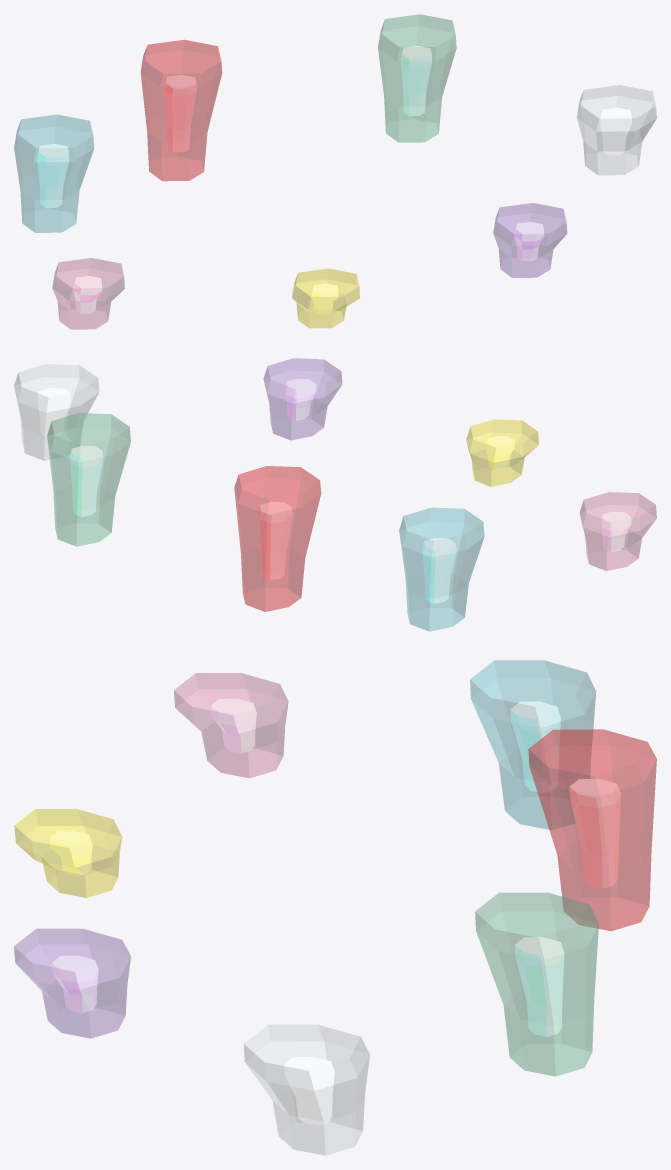
Rendered from day45-seats.glb.
3 views of the same model, one above another, from view 1: azimuth 30°, elevation 25°; view 2: azimuth 150°, elevation 25°; view 3: azimuth 270°, elevation 25° (orthographic). The views are drawn at different scales.
Parts seen in each view (by area): view 1: Seat_07_Ruby.001, Seat_05_Jade.001, Seat_02_Lagoon.001, Seat_06_Quartz.001, Seat_04_Amethyst.001, Seat_01_Rose.001, Seat_03_Citrine.001, Seat_07_Ruby_Core.001, Seat_05_Jade_Core.001, Seat_02_Lagoon_Core.001, Seat_06_Quartz_Core.001, Seat_04_Amethyst_Core.001 (+2 smaller); view 2: Seat_07_Ruby.001, Seat_05_Jade.001, Seat_02_Lagoon.001, Seat_06_Quartz.001, Seat_04_Amethyst.001, Seat_01_Rose.001, Seat_03_Citrine.001, Seat_07_Ruby_Core.001, Seat_05_Jade_Core.001, Seat_02_Lagoon_Core.001, Seat_06_Quartz_Core.001, Seat_04_Amethyst_Core.001 (+2 smaller); view 3: Seat_07_Ruby.001, Seat_05_Jade.001, Seat_02_Lagoon.001, Seat_06_Quartz.001, Seat_04_Amethyst.001, Seat_01_Rose.001, Seat_03_Citrine.001, Seat_07_Ruby_Core.001, Seat_05_Jade_Core.001, Seat_02_Lagoon_Core.001, Seat_06_Quartz_Core.001, Seat_04_Amethyst_Core.001 (+2 smaller).
Part boxes in pixels (x1=…): Seat_07_Ruby.001: x1=140, y1=39, x2=222, y2=181; Seat_05_Jade.001: x1=378, y1=14, x2=456, y2=142; Seat_02_Lagoon.001: x1=14, y1=114, x2=94, y2=232; Seat_06_Quartz.001: x1=577, y1=85, x2=656, y2=175; Seat_04_Amethyst.001: x1=493, y1=203, x2=567, y2=277; Seat_01_Rose.001: x1=52, y1=258, x2=124, y2=329; Seat_03_Citrine.001: x1=292, y1=268, x2=359, y2=328; Seat_07_Ruby_Core.001: x1=164, y1=75, x2=196, y2=152; Seat_05_Jade_Core.001: x1=400, y1=46, x2=431, y2=116; Seat_02_Lagoon_Core.001: x1=37, y1=143, x2=69, y2=208; Seat_06_Quartz_Core.001: x1=600, y1=107, x2=631, y2=155; Seat_04_Amethyst_Core.001: x1=514, y1=222, x2=544, y2=261; Seat_07_Ruby.001: x1=234, y1=466, x2=321, y2=611; Seat_05_Jade.001: x1=47, y1=413, x2=130, y2=546; Seat_02_Lagoon.001: x1=399, y1=507, x2=484, y2=631; Seat_06_Quartz.001: x1=14, y1=364, x2=99, y2=460; Seat_04_Amethyst.001: x1=263, y1=358, x2=342, y2=440; Seat_01_Rose.001: x1=579, y1=492, x2=656, y2=570; Seat_03_Citrine.001: x1=466, y1=419, x2=538, y2=486; Seat_07_Ruby_Core.001: x1=258, y1=502, x2=292, y2=580; Seat_05_Jade_Core.001: x1=70, y1=445, x2=103, y2=517; Seat_02_Lagoon_Core.001: x1=422, y1=538, x2=456, y2=603; Seat_06_Quartz_Core.001: x1=37, y1=388, x2=71, y2=437; Seat_04_Amethyst_Core.001: x1=285, y1=378, x2=316, y2=420; Seat_07_Ruby.001: x1=528, y1=729, x2=656, y2=931; Seat_05_Jade.001: x1=475, y1=892, x2=598, y2=1076; Seat_02_Lagoon.001: x1=470, y1=660, x2=596, y2=829; Seat_06_Quartz.001: x1=244, y1=1024, x2=369, y2=1155; Seat_04_Amethyst.001: x1=14, y1=928, x2=130, y2=1038; Seat_01_Rose.001: x1=174, y1=673, x2=288, y2=778; Seat_03_Citrine.001: x1=14, y1=809, x2=122, y2=897; Seat_07_Ruby_Core.001: x1=569, y1=779, x2=620, y2=888; Seat_05_Jade_Core.001: x1=515, y1=937, x2=564, y2=1036; Seat_02_Lagoon_Core.001: x1=510, y1=701, x2=560, y2=792; Seat_06_Quartz_Core.001: x1=284, y1=1057, x2=334, y2=1125; Seat_04_Amethyst_Core.001: x1=52, y1=955, x2=98, y2=1012.
Size of the model in its own units: 12.61 by 2.25 by 8.1.
